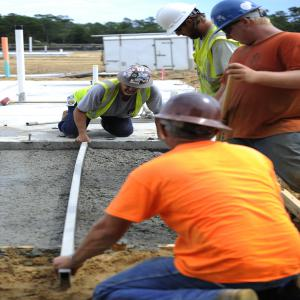blue: (212, 3, 270, 45)
red: (156, 94, 226, 143), (119, 68, 154, 97)
white: (157, 5, 206, 42)
